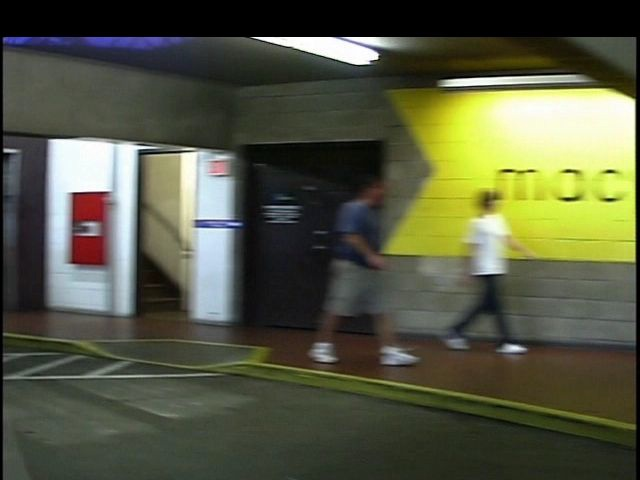person: (293, 169, 402, 370), (426, 181, 515, 361)
